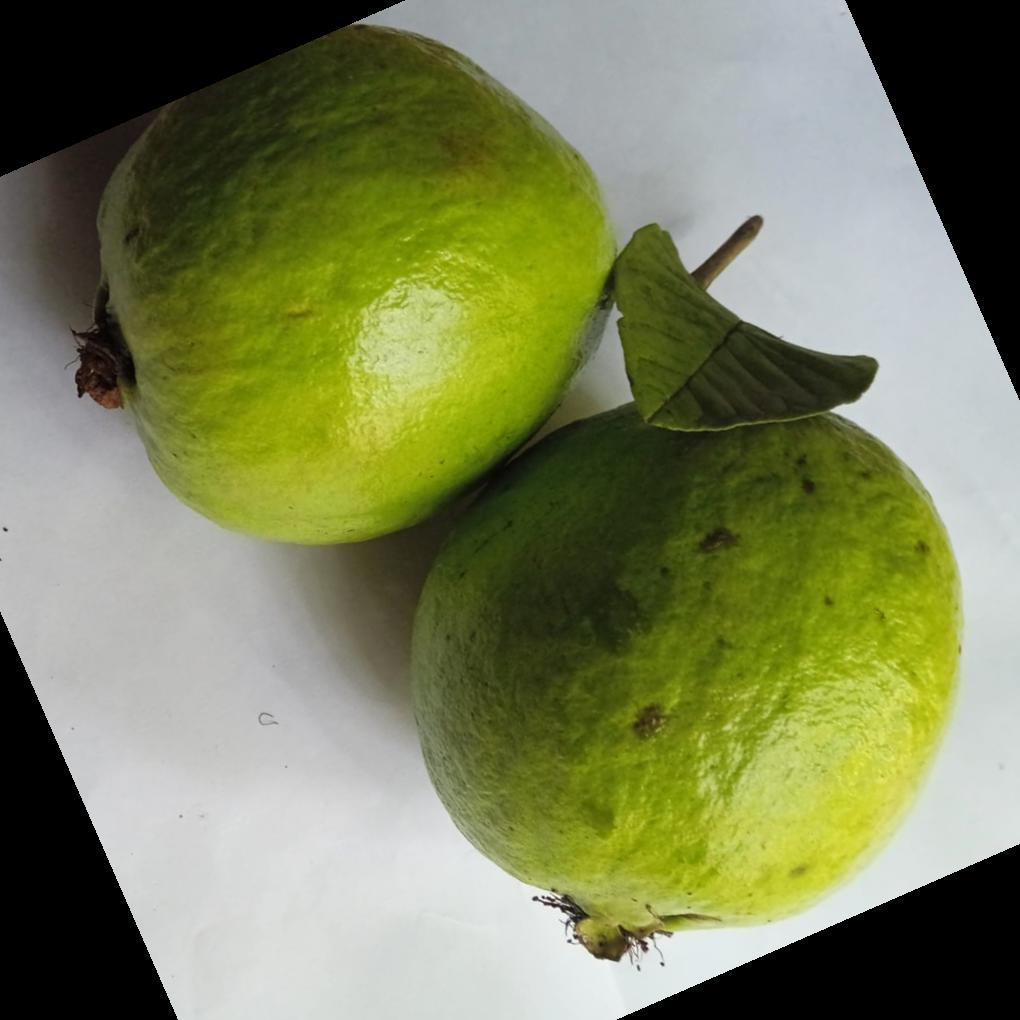FreshGuava: (77, 24, 966, 964)
